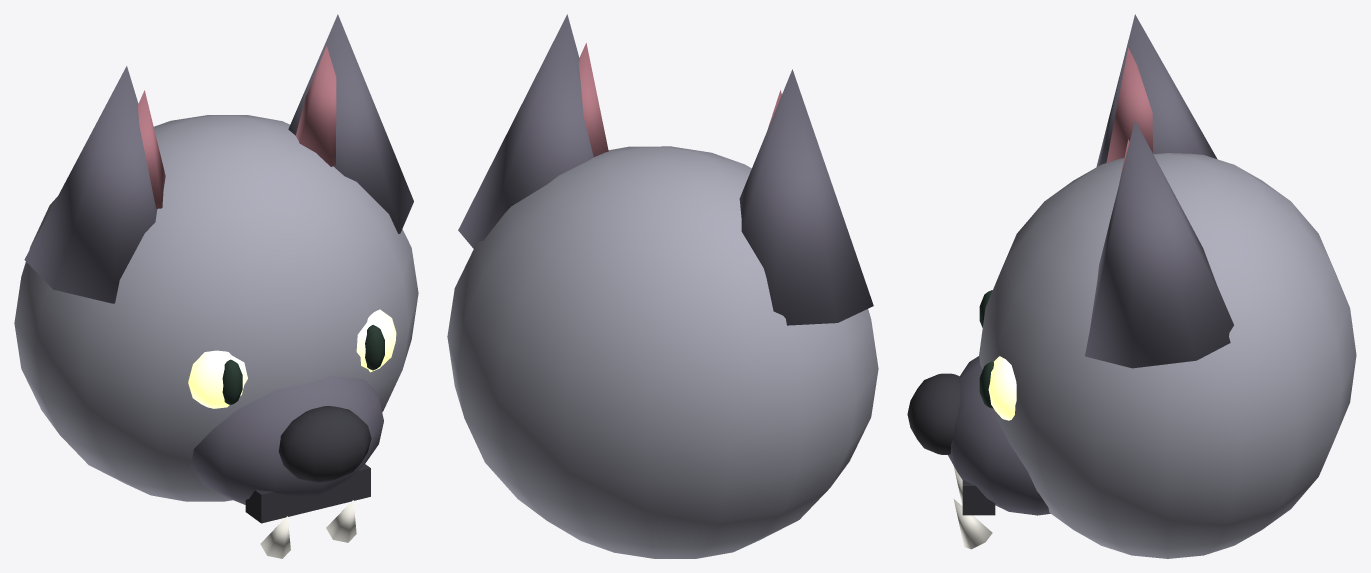
The model's file is wolf.glb.
3 renders of one model, left to right at view 1: azimuth 30°, elevation 25°; view 2: azimuth 150°, elevation 25°; view 3: azimuth 270°, elevation 25°, orthographic. The views are drawn at different scales.
Visible parts, largest first — view 1: wolf; view 2: wolf; view 3: wolf.
Boxes of the visible parts, x1,y1,x2,y2 form: wolf: [14, 14, 418, 558]; wolf: [447, 14, 878, 558]; wolf: [907, 14, 1356, 558].
Size of the model in its own units: 0.132 by 0.1597 by 0.138.
